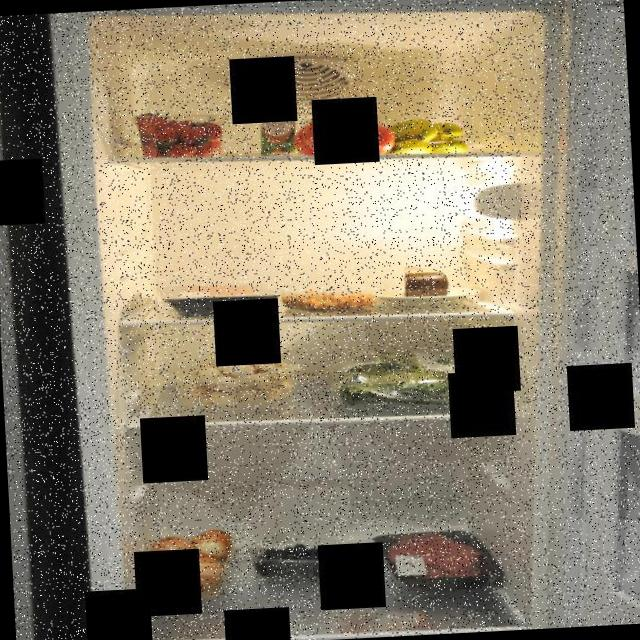Carne vacuno: (370, 520, 505, 597)
Cebolla: (144, 520, 241, 598)
Champiñones: (170, 341, 306, 413)
Gambas/Langostinos: (280, 283, 378, 313)
Plátano: (386, 114, 480, 162)
Queso: (396, 258, 454, 302)
Tomate: (290, 104, 400, 162)
blueberries: (251, 537, 340, 584)
heavy_cream: (256, 90, 296, 158)
spinach: (322, 342, 497, 416)
strawberries: (132, 100, 229, 160)
